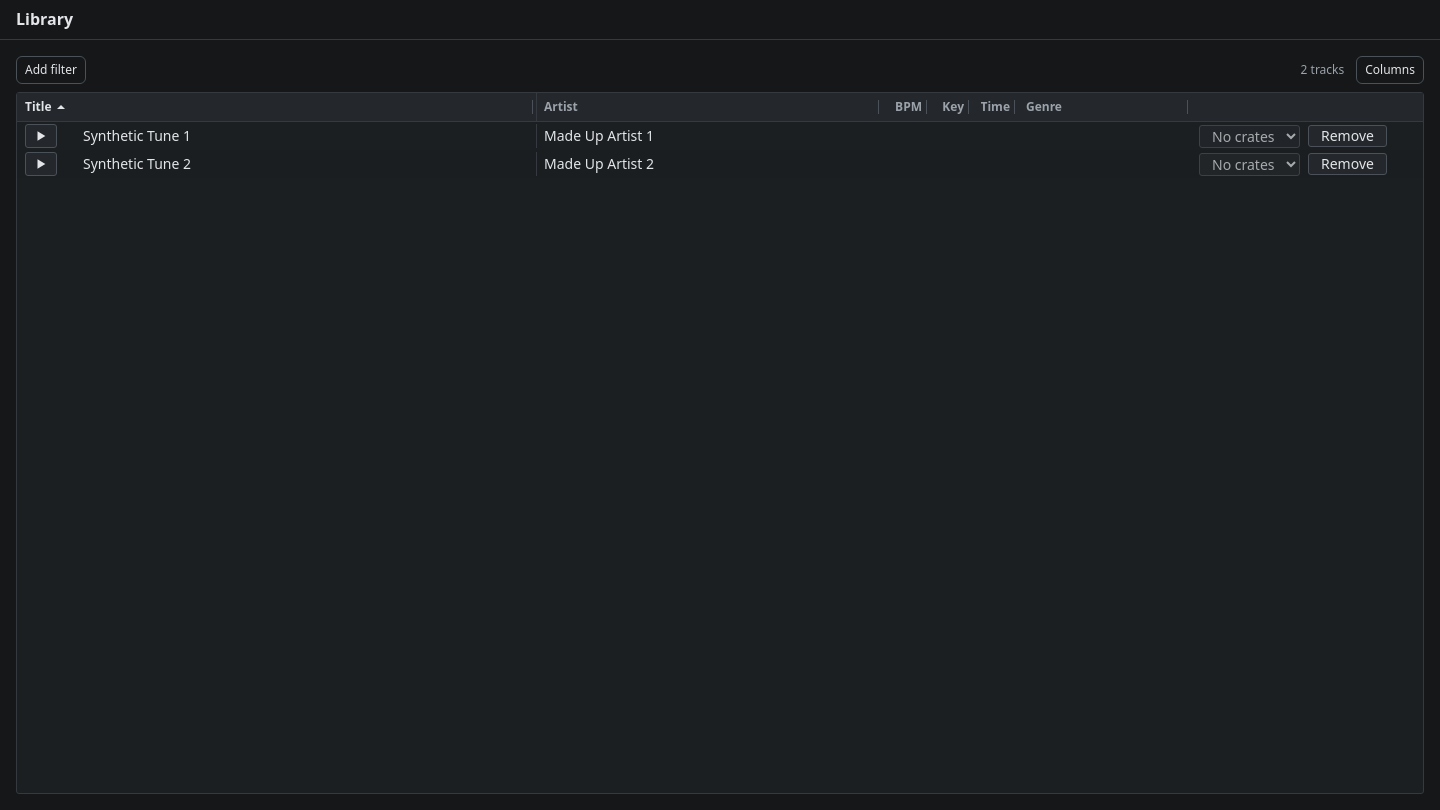
Test: removing a track from the Library › asks first, and removes nothing until the user confirms
Step 1. Click the button "Remove" in the row of "Synthetic Tune 1" → (1347, 136), box top-left (1308, 125), bottom-right (1387, 147)
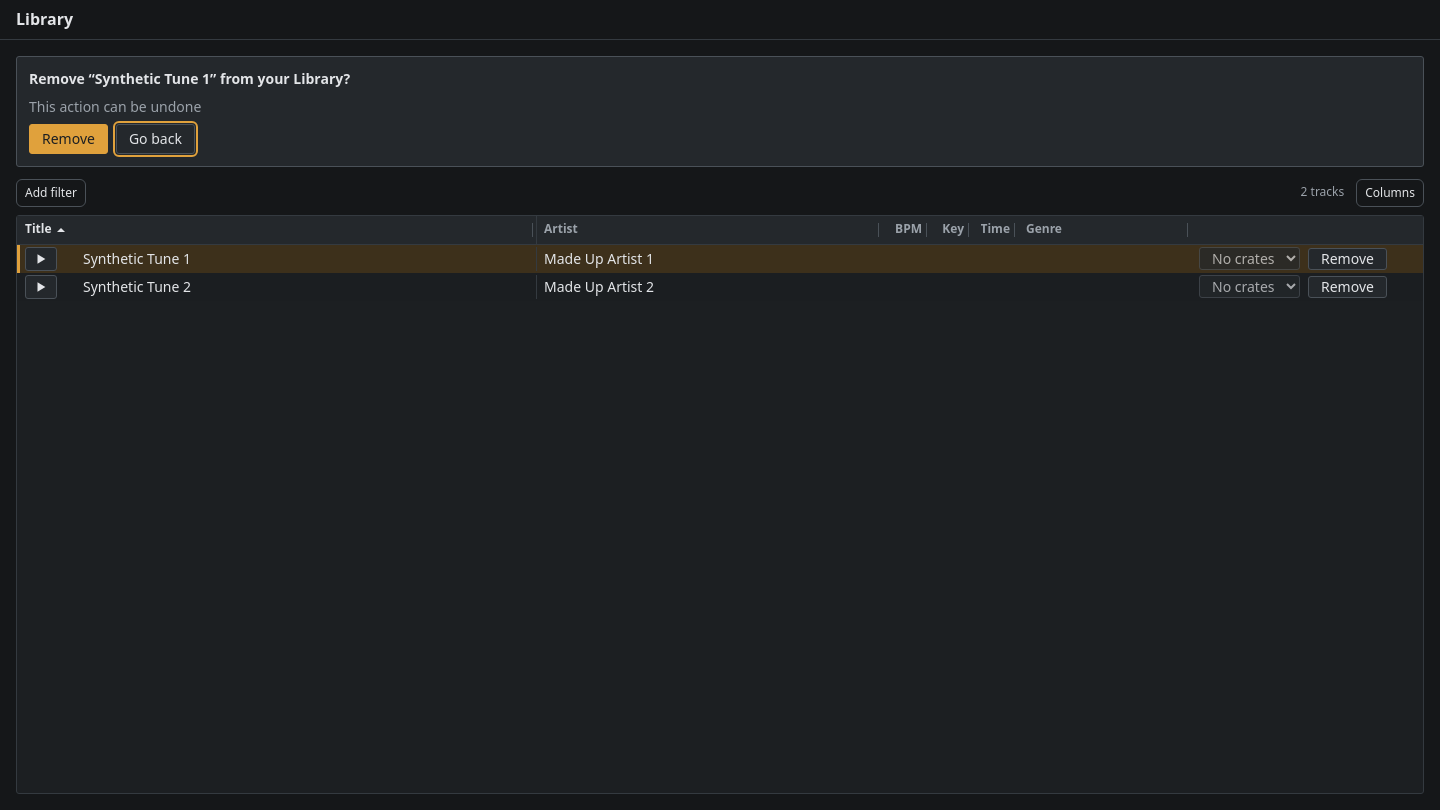
Expected: the dialog shows "This action can be undone", top-left (29, 97), bottom-right (201, 116)
Step 2. Click the button "Go back" → (155, 139), box top-left (116, 124), bottom-right (195, 154)
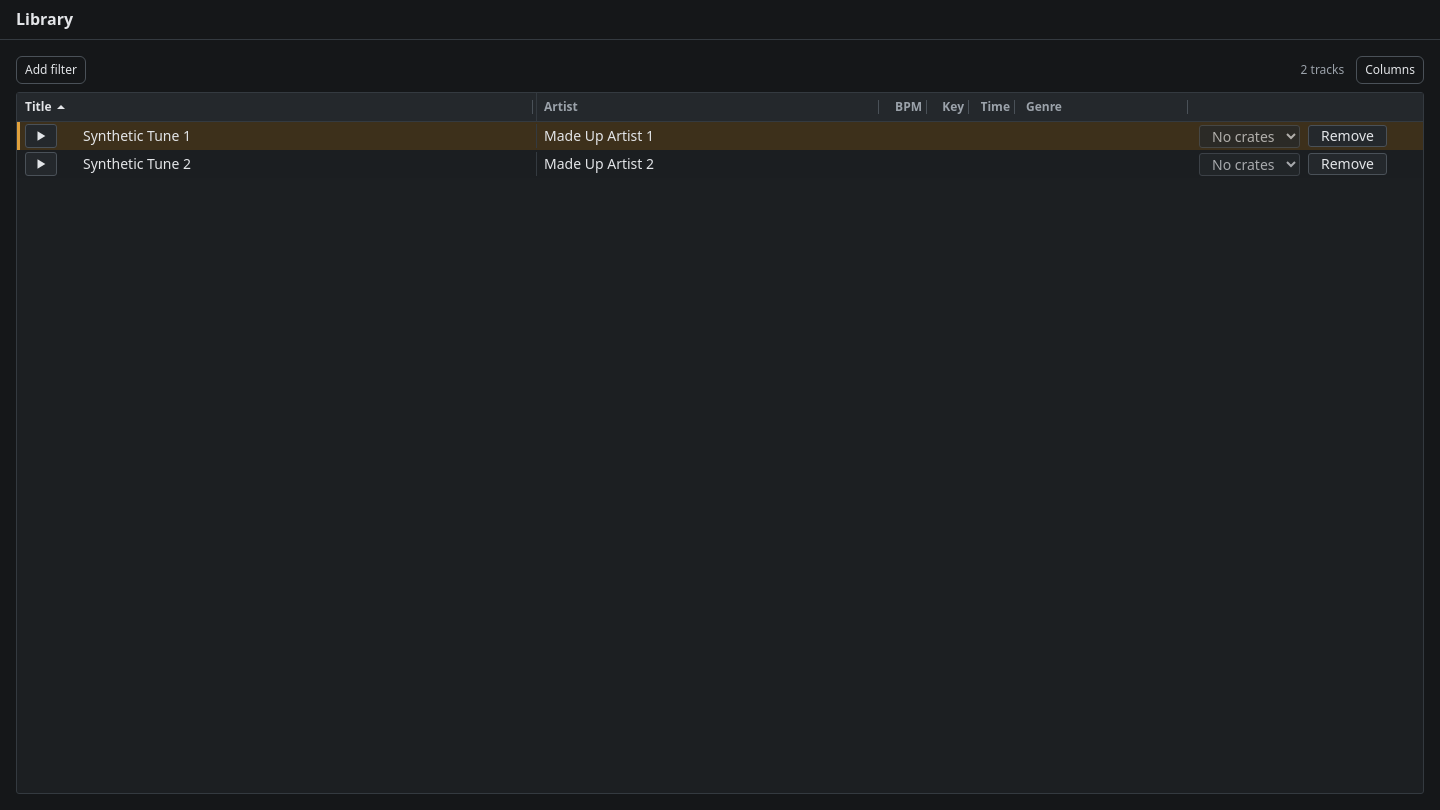
Expected: the dialog is gone
